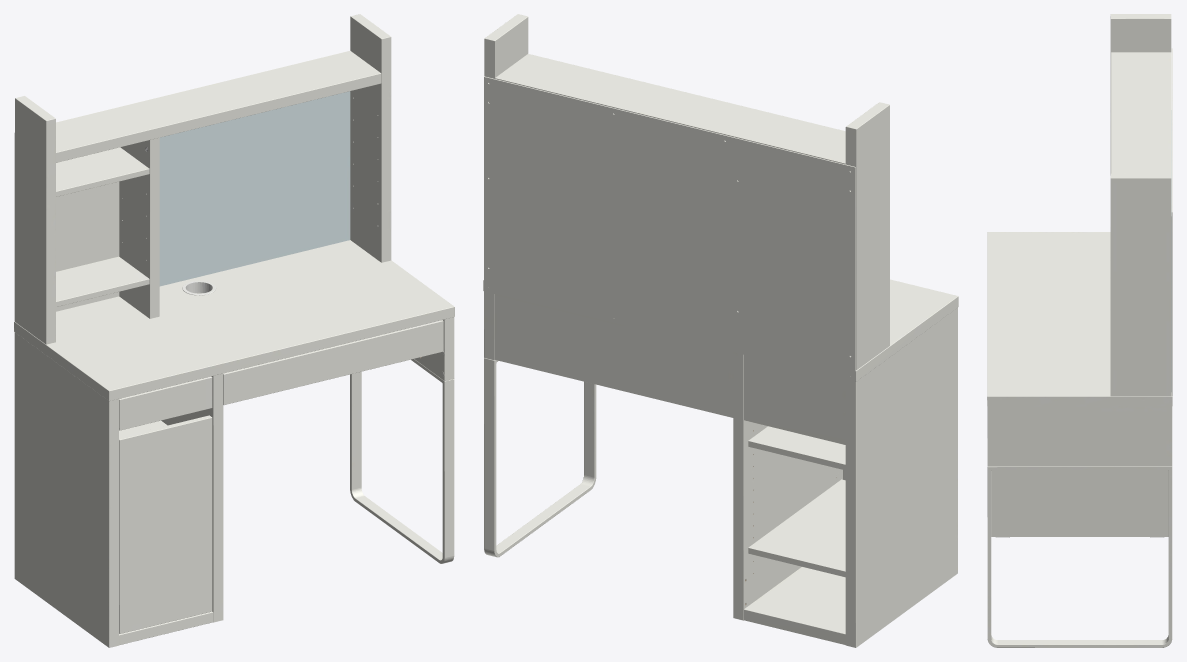
The picture shows the model from 3 angles, left to right: view 1: azimuth 30°, elevation 25°; view 2: azimuth 150°, elevation 25°; view 3: azimuth 270°, elevation 25°; orthographic projection. The views are drawn at different scales.
Parts seen in each view (by area): view 1: GLTF; view 2: GLTF; view 3: GLTF.
Boxes of the visible parts, x1,y1,x2,y2 form: GLTF: (14, 14, 454, 647); GLTF: (483, 14, 958, 647); GLTF: (987, 14, 1172, 647).
Bounding box in the file's own units: 1.05 × 1.4 × 0.5.
Materials: 1 (1 with a texture image).
